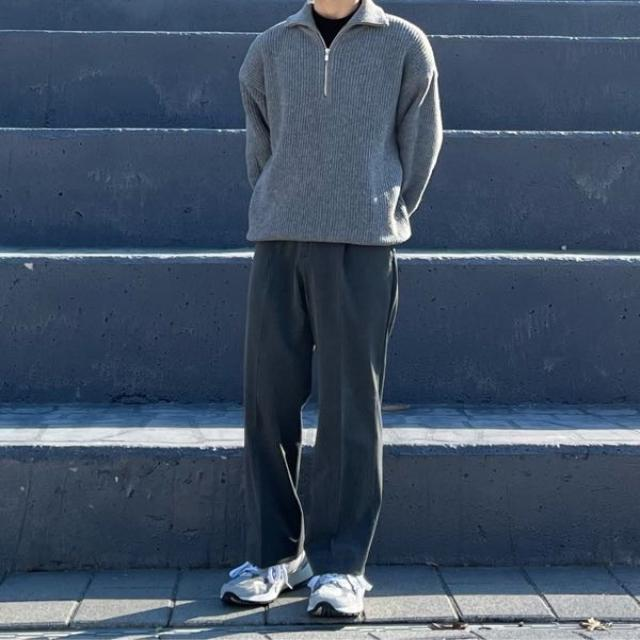slacks: (250, 236, 399, 575)
sweater: (237, 1, 438, 246)
